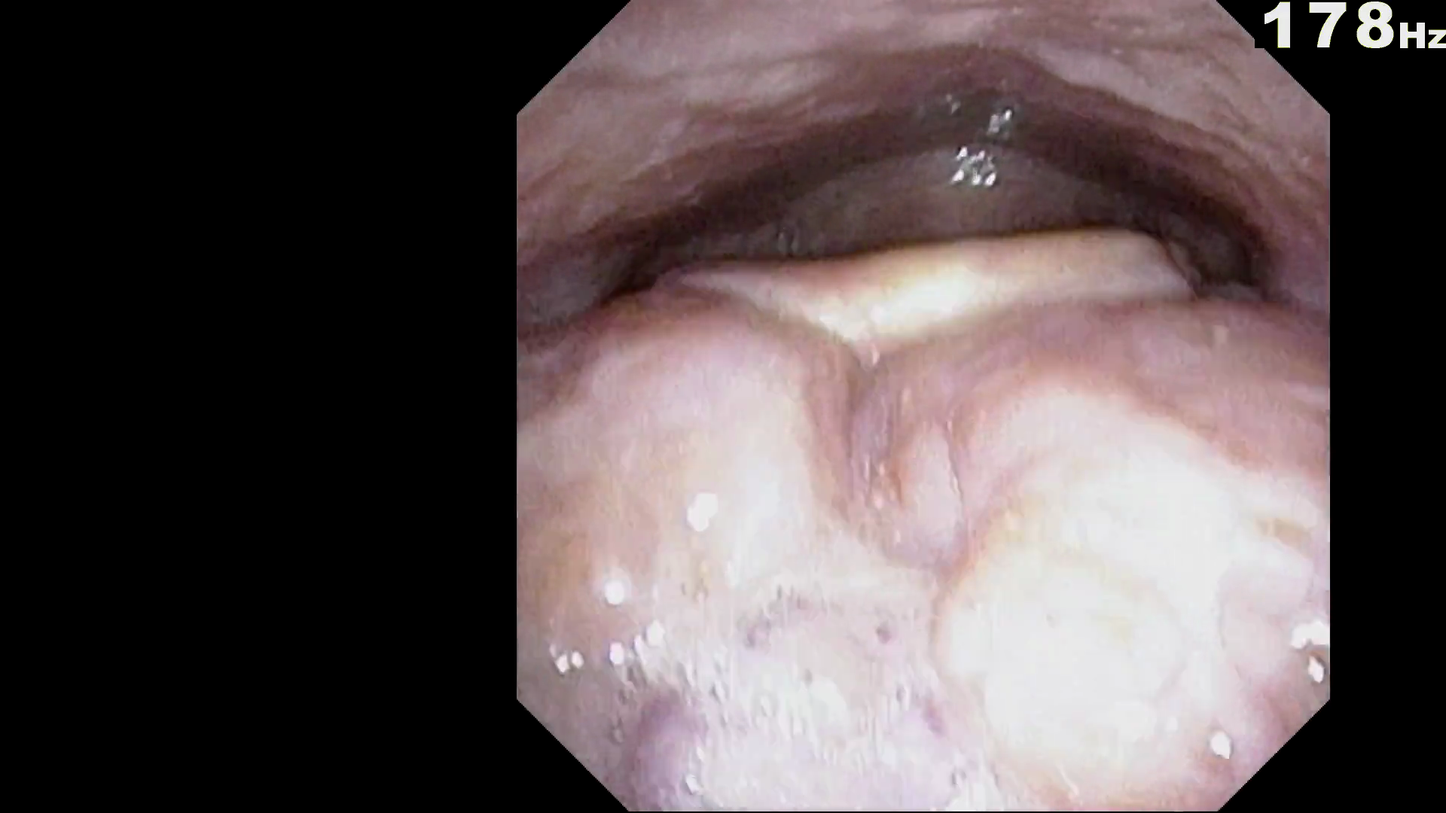epiglottis: (659, 209, 1219, 405)
trachea: (889, 243, 979, 350)
